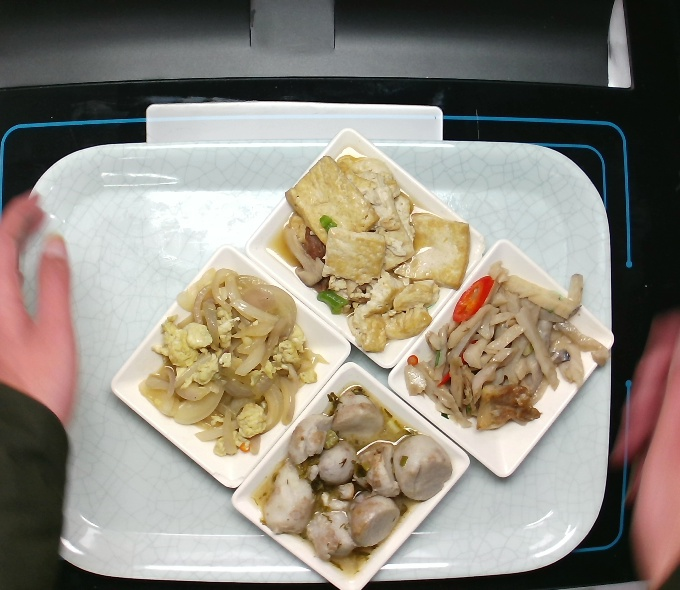wcq-JiaChangDouFu: (280, 153, 467, 348)
wcq-QingChaoOuPian: (394, 271, 611, 434)
wcq-YangCongChaoDan: (141, 266, 324, 465)
wcq-YangYu: (254, 381, 448, 568)
